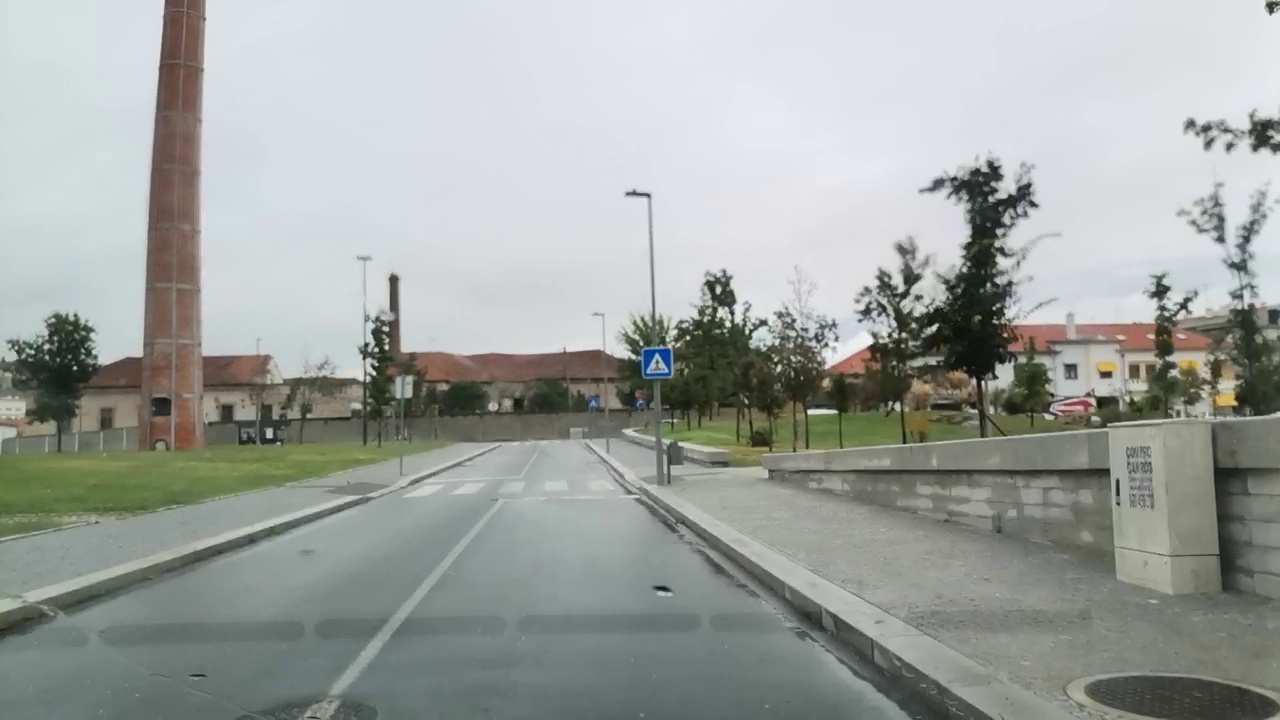Stairs: (389, 477, 632, 499)
